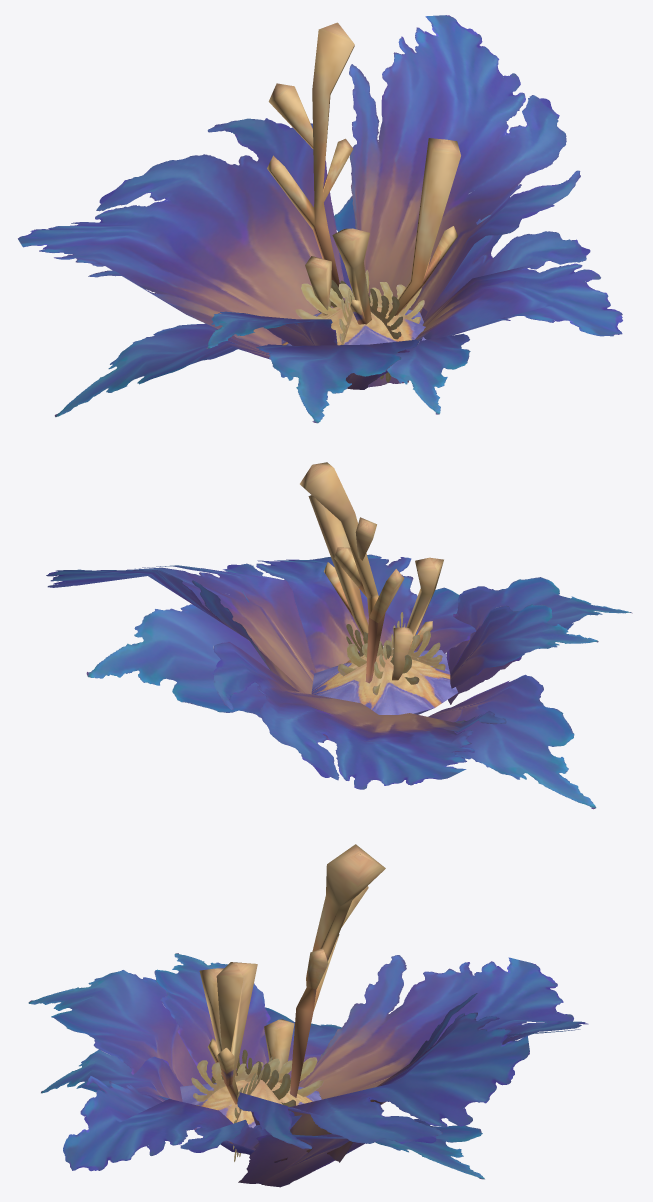
File: Map_09_flower01.FBX
3 renders of one model, top to bottom at view 1: azimuth 30°, elevation 25°; view 2: azimuth 150°, elevation 25°; view 3: azimuth 270°, elevation 25°, orthographic. The views are drawn at different scales.
Visible parts, largest first — view 1: Map_09_flower01; view 2: Map_09_flower01; view 3: Map_09_flower01.
Part boxes in pixels (x1,y1,x2,y2): Map_09_flower01: [18, 15, 622, 423]; Map_09_flower01: [46, 462, 632, 809]; Map_09_flower01: [28, 844, 588, 1187].
Bounding box in the file's own units: 467 × 248 × 413.
1 material, 1 textured.
